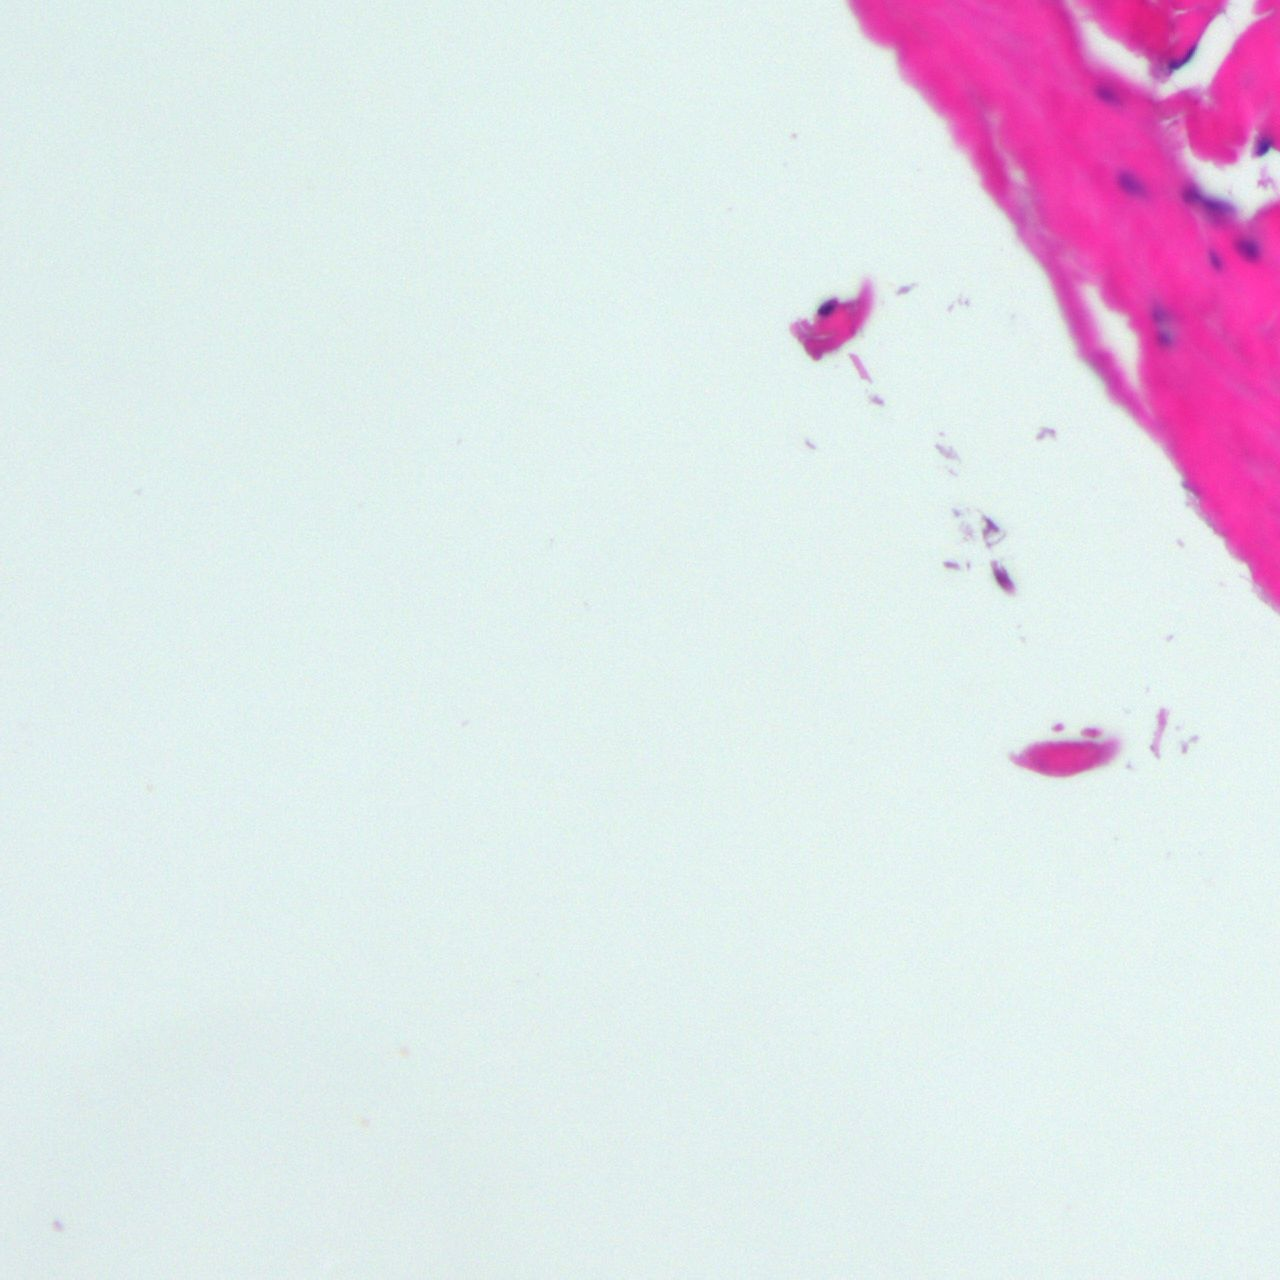nucleus-HE: (1179, 182, 1237, 217), (1111, 166, 1150, 200), (1091, 79, 1126, 113), (1167, 40, 1194, 72), (1230, 236, 1258, 261), (1205, 250, 1226, 275), (1250, 135, 1269, 157), (1148, 299, 1167, 320), (1155, 328, 1169, 350)
